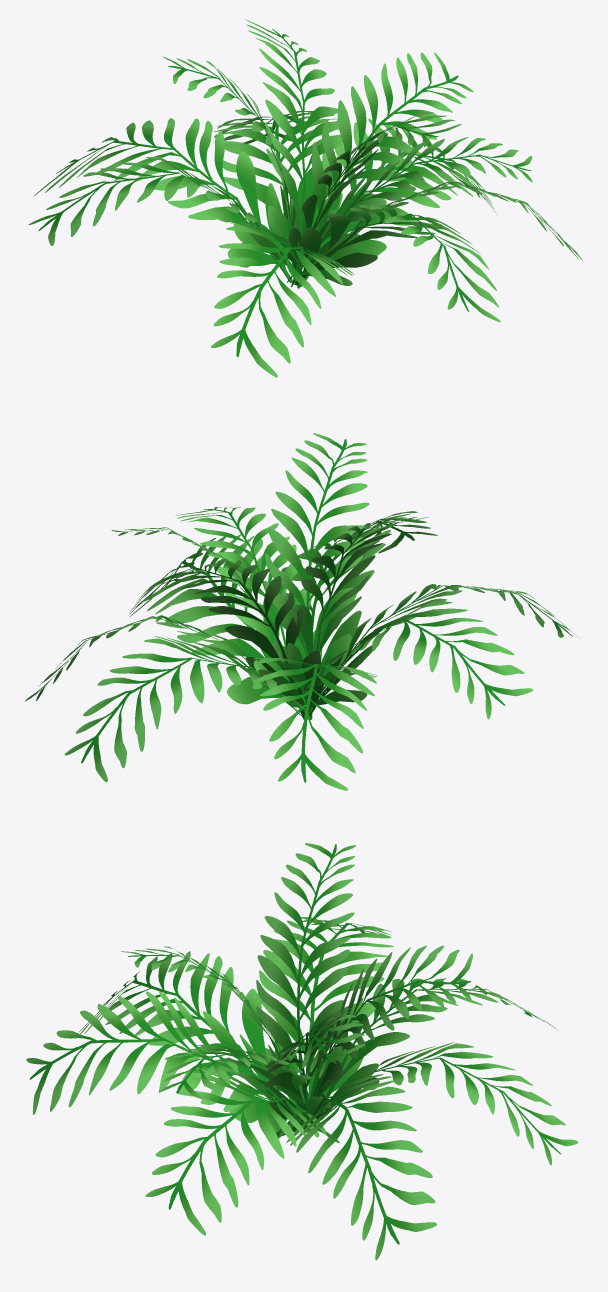
The model's file is Plant_02.fbx.
3 renders of one model, top to bottom at view 1: azimuth 30°, elevation 25°; view 2: azimuth 150°, elevation 25°; view 3: azimuth 270°, elevation 25°, orthographic.
Visible parts, largest first — view 1: Plant 2; view 2: Plant 2; view 3: Plant 2.
Boxes of the visible parts, bbox=[...] form: Plant 2: bbox=[28, 19, 582, 377]; Plant 2: bbox=[24, 433, 580, 790]; Plant 2: bbox=[26, 843, 578, 1260].
Bounding box in the file's own units: 109 × 58.84 × 113.
